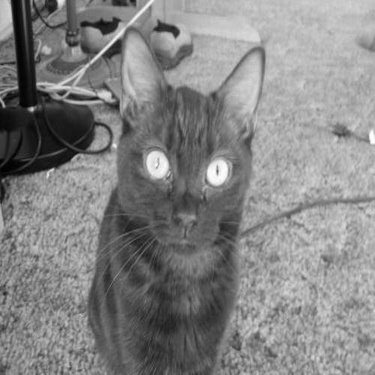cat: (71, 1, 272, 373)
